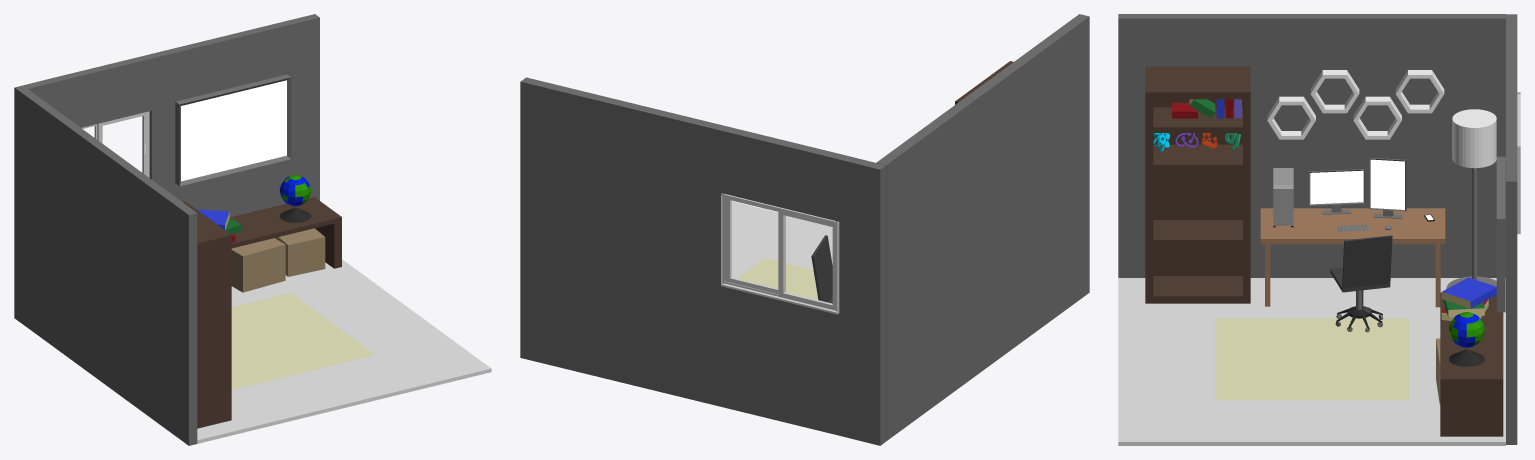
The model's file is portfolioOptimized2svg.glb.
3 renders of one model, left to right at view 1: azimuth 30°, elevation 25°; view 2: azimuth 150°, elevation 25°; view 3: azimuth 270°, elevation 25°, orthographic. The views are drawn at different scales.
Parts seen in each view (by area): view 1: wall, windowWall, floor, tv, rug, shelf, displayBenchBoxes, displayBench, globe, textbooks, Window.R; view 2: windowWall, wall, floor, WindowFrame, rug, Window.L, chairTop, Window.R; view 3: wall, floor, shelf, rug, displayBench, tableTop, windowWall, chairTop, lamp, hMonitor, vMonitor, textbooks (+9 smaller).
Boxes of the visible parts, x1,y1,x2,y2 form: wall: (19, 89, 197, 445); windowWall: (14, 14, 319, 321); floor: (197, 259, 491, 443); tv: (175, 74, 291, 186); rug: (231, 293, 374, 389); shelf: (183, 201, 231, 428); displayBenchBoxes: (231, 228, 325, 292); displayBench: (229, 197, 341, 268); globe: (279, 175, 311, 222); textbooks: (197, 209, 241, 242); Window.R: (97, 112, 146, 175); windowWall: (520, 77, 885, 445); wall: (876, 14, 1089, 441); floor: (731, 201, 832, 278); WindowFrame: (721, 193, 839, 314); rug: (737, 258, 818, 299); Window.L: (778, 210, 835, 310); chairTop: (811, 235, 832, 303); Window.R: (726, 197, 785, 294); wall: (1118, 14, 1505, 277); floor: (1118, 278, 1505, 445); shelf: (1145, 66, 1250, 303); rug: (1215, 318, 1409, 400); displayBench: (1440, 292, 1503, 436); tableTop: (1260, 208, 1445, 244); windowWall: (1506, 14, 1517, 444); chairTop: (1330, 235, 1392, 328); lamp: (1446, 109, 1496, 288); hMonitor: (1308, 169, 1364, 214); vMonitor: (1369, 157, 1406, 218); textbooks: (1441, 277, 1496, 320).
Size of the model in its own units: 4.12 by 3 by 4.15.
